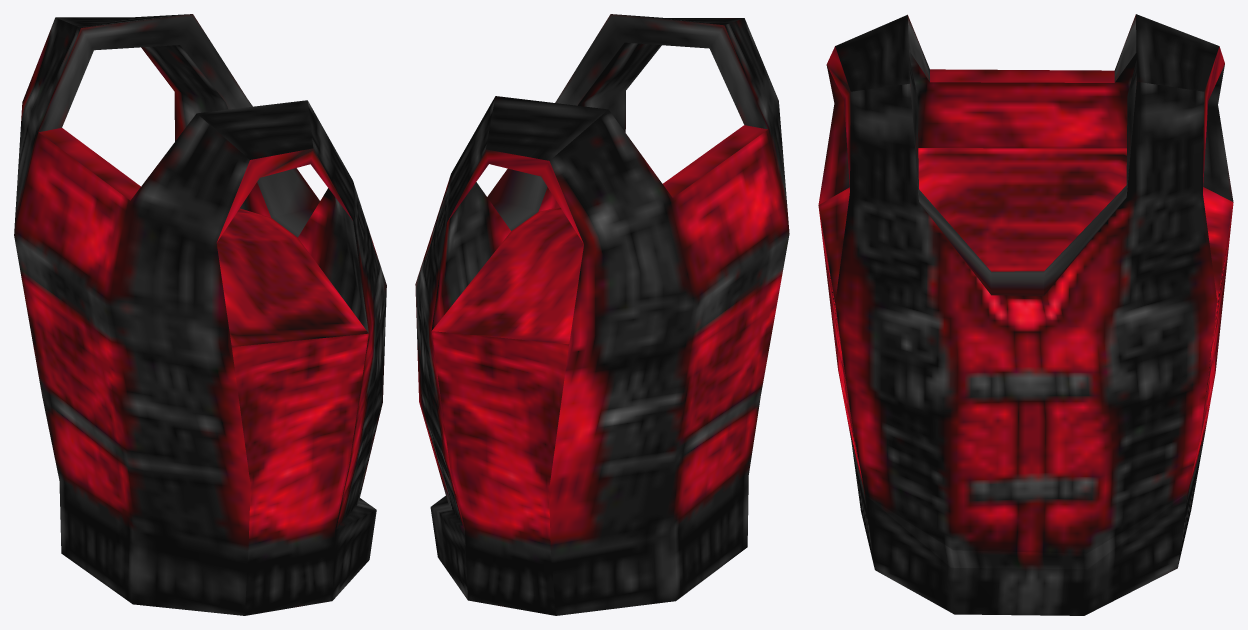
Rendered from r_armor.glb.
3 views of the same model, side by side, from view 1: azimuth 30°, elevation 25°; view 2: azimuth 150°, elevation 25°; view 3: azimuth 270°, elevation 25° (orthographic).
Parts seen in each view (by area): view 1: r_armor; view 2: r_armor; view 3: r_armor.
Part boxes in pixels (<box>): r_armor: <box>14,14,386,615</box>; r_armor: <box>415,14,789,615</box>; r_armor: <box>818,14,1233,615</box>.
Bounding box in the file's own units: 22.03 × 37.98 × 28.16.
1 material, 1 textured.
